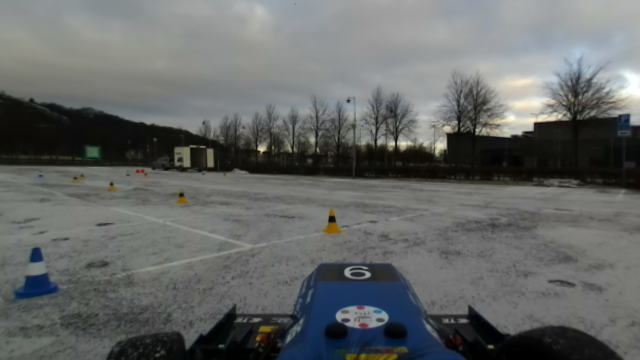yellow: (320, 205, 341, 237), (174, 189, 189, 205)
